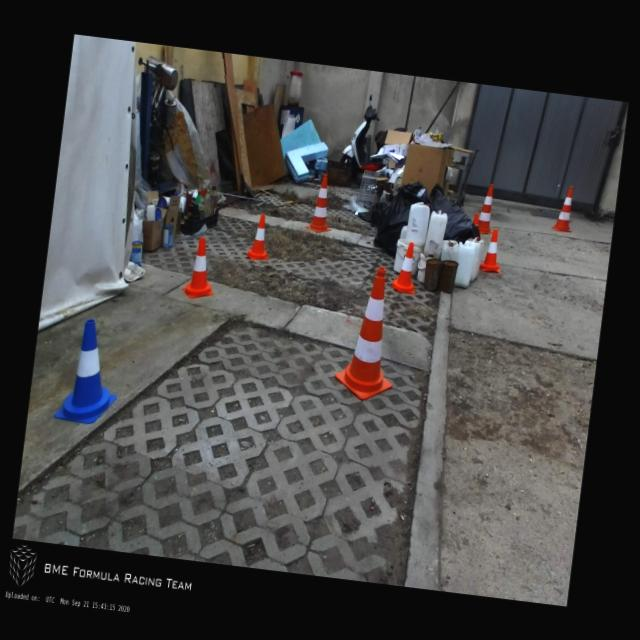blue_cone: (53, 315, 125, 426)
large_orange_cone: (332, 263, 406, 402), (304, 172, 337, 234), (551, 185, 576, 232), (476, 184, 499, 234)
orange_cone: (181, 236, 220, 301), (390, 240, 421, 294), (245, 212, 273, 262), (479, 228, 505, 273)
